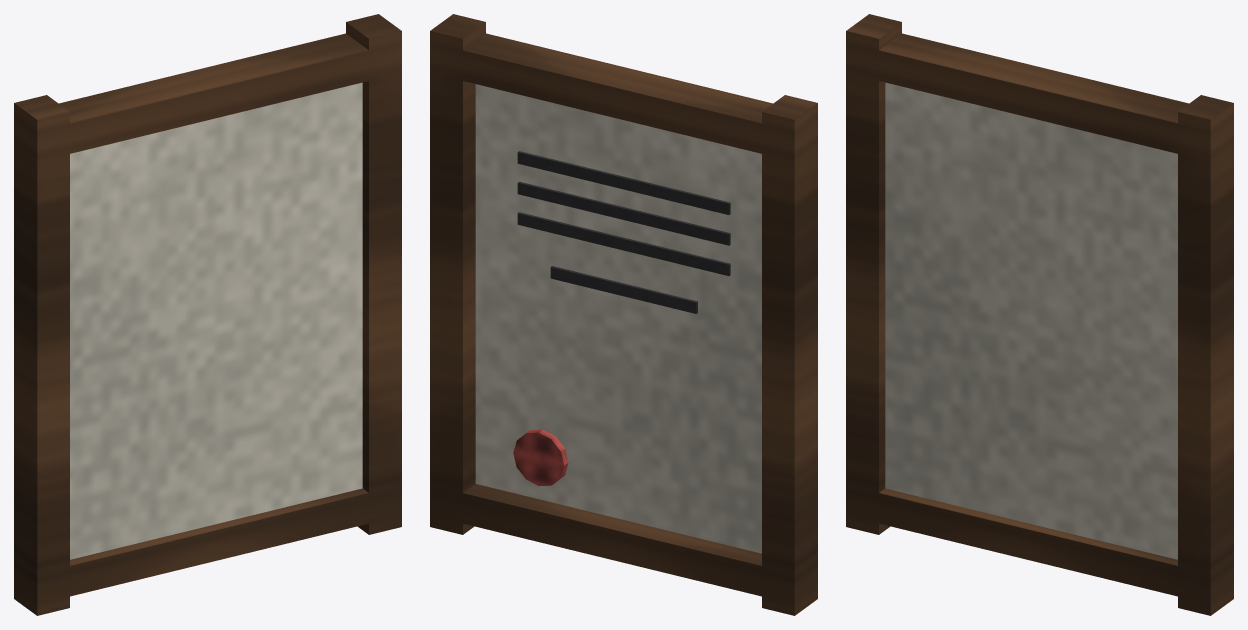
The model's file is graduation_certificate.fbx.
3 renders of one model, left to right at view 1: azimuth 30°, elevation 25°; view 2: azimuth 150°, elevation 25°; view 3: azimuth 330°, elevation 25°, orthographic.
Parts seen in each view (by area): view 1: graduation_certificate; view 2: graduation_certificate; view 3: graduation_certificate.
Part boxes in pixels (x1,y1,x2,y2): graduation_certificate: (14, 14, 401, 615); graduation_certificate: (430, 14, 817, 615); graduation_certificate: (846, 14, 1233, 615).
Bounding box in the file's own units: 20 × 26 × 2.2.
